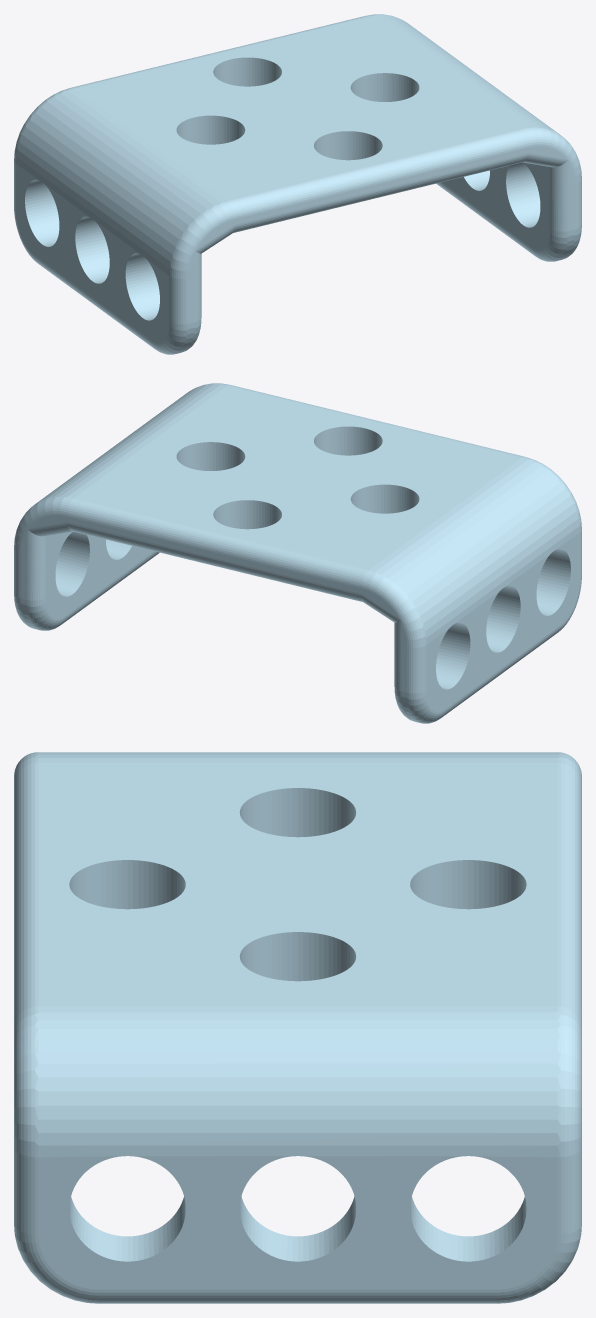
The model's file is short_U.dae.
The picture shows the model from 3 angles, top to bottom: view 1: azimuth 30°, elevation 25°; view 2: azimuth 150°, elevation 25°; view 3: azimuth 270°, elevation 25°; orthographic projection. The views are drawn at different scales.
Parts seen in each view (by area): view 1: _eb856c99167d915bdb4b0c3; view 2: _eb856c99167d915bdb4b0c3; view 3: _eb856c99167d915bdb4b0c3.
Part boxes in pixels (bbox=[...]): _eb856c99167d915bdb4b0c3: bbox=[14, 14, 581, 354]; _eb856c99167d915bdb4b0c3: bbox=[14, 383, 581, 723]; _eb856c99167d915bdb4b0c3: bbox=[14, 752, 581, 1303].
Bounding box in the file's own units: 0.0283 × 0.02 × 0.01.
